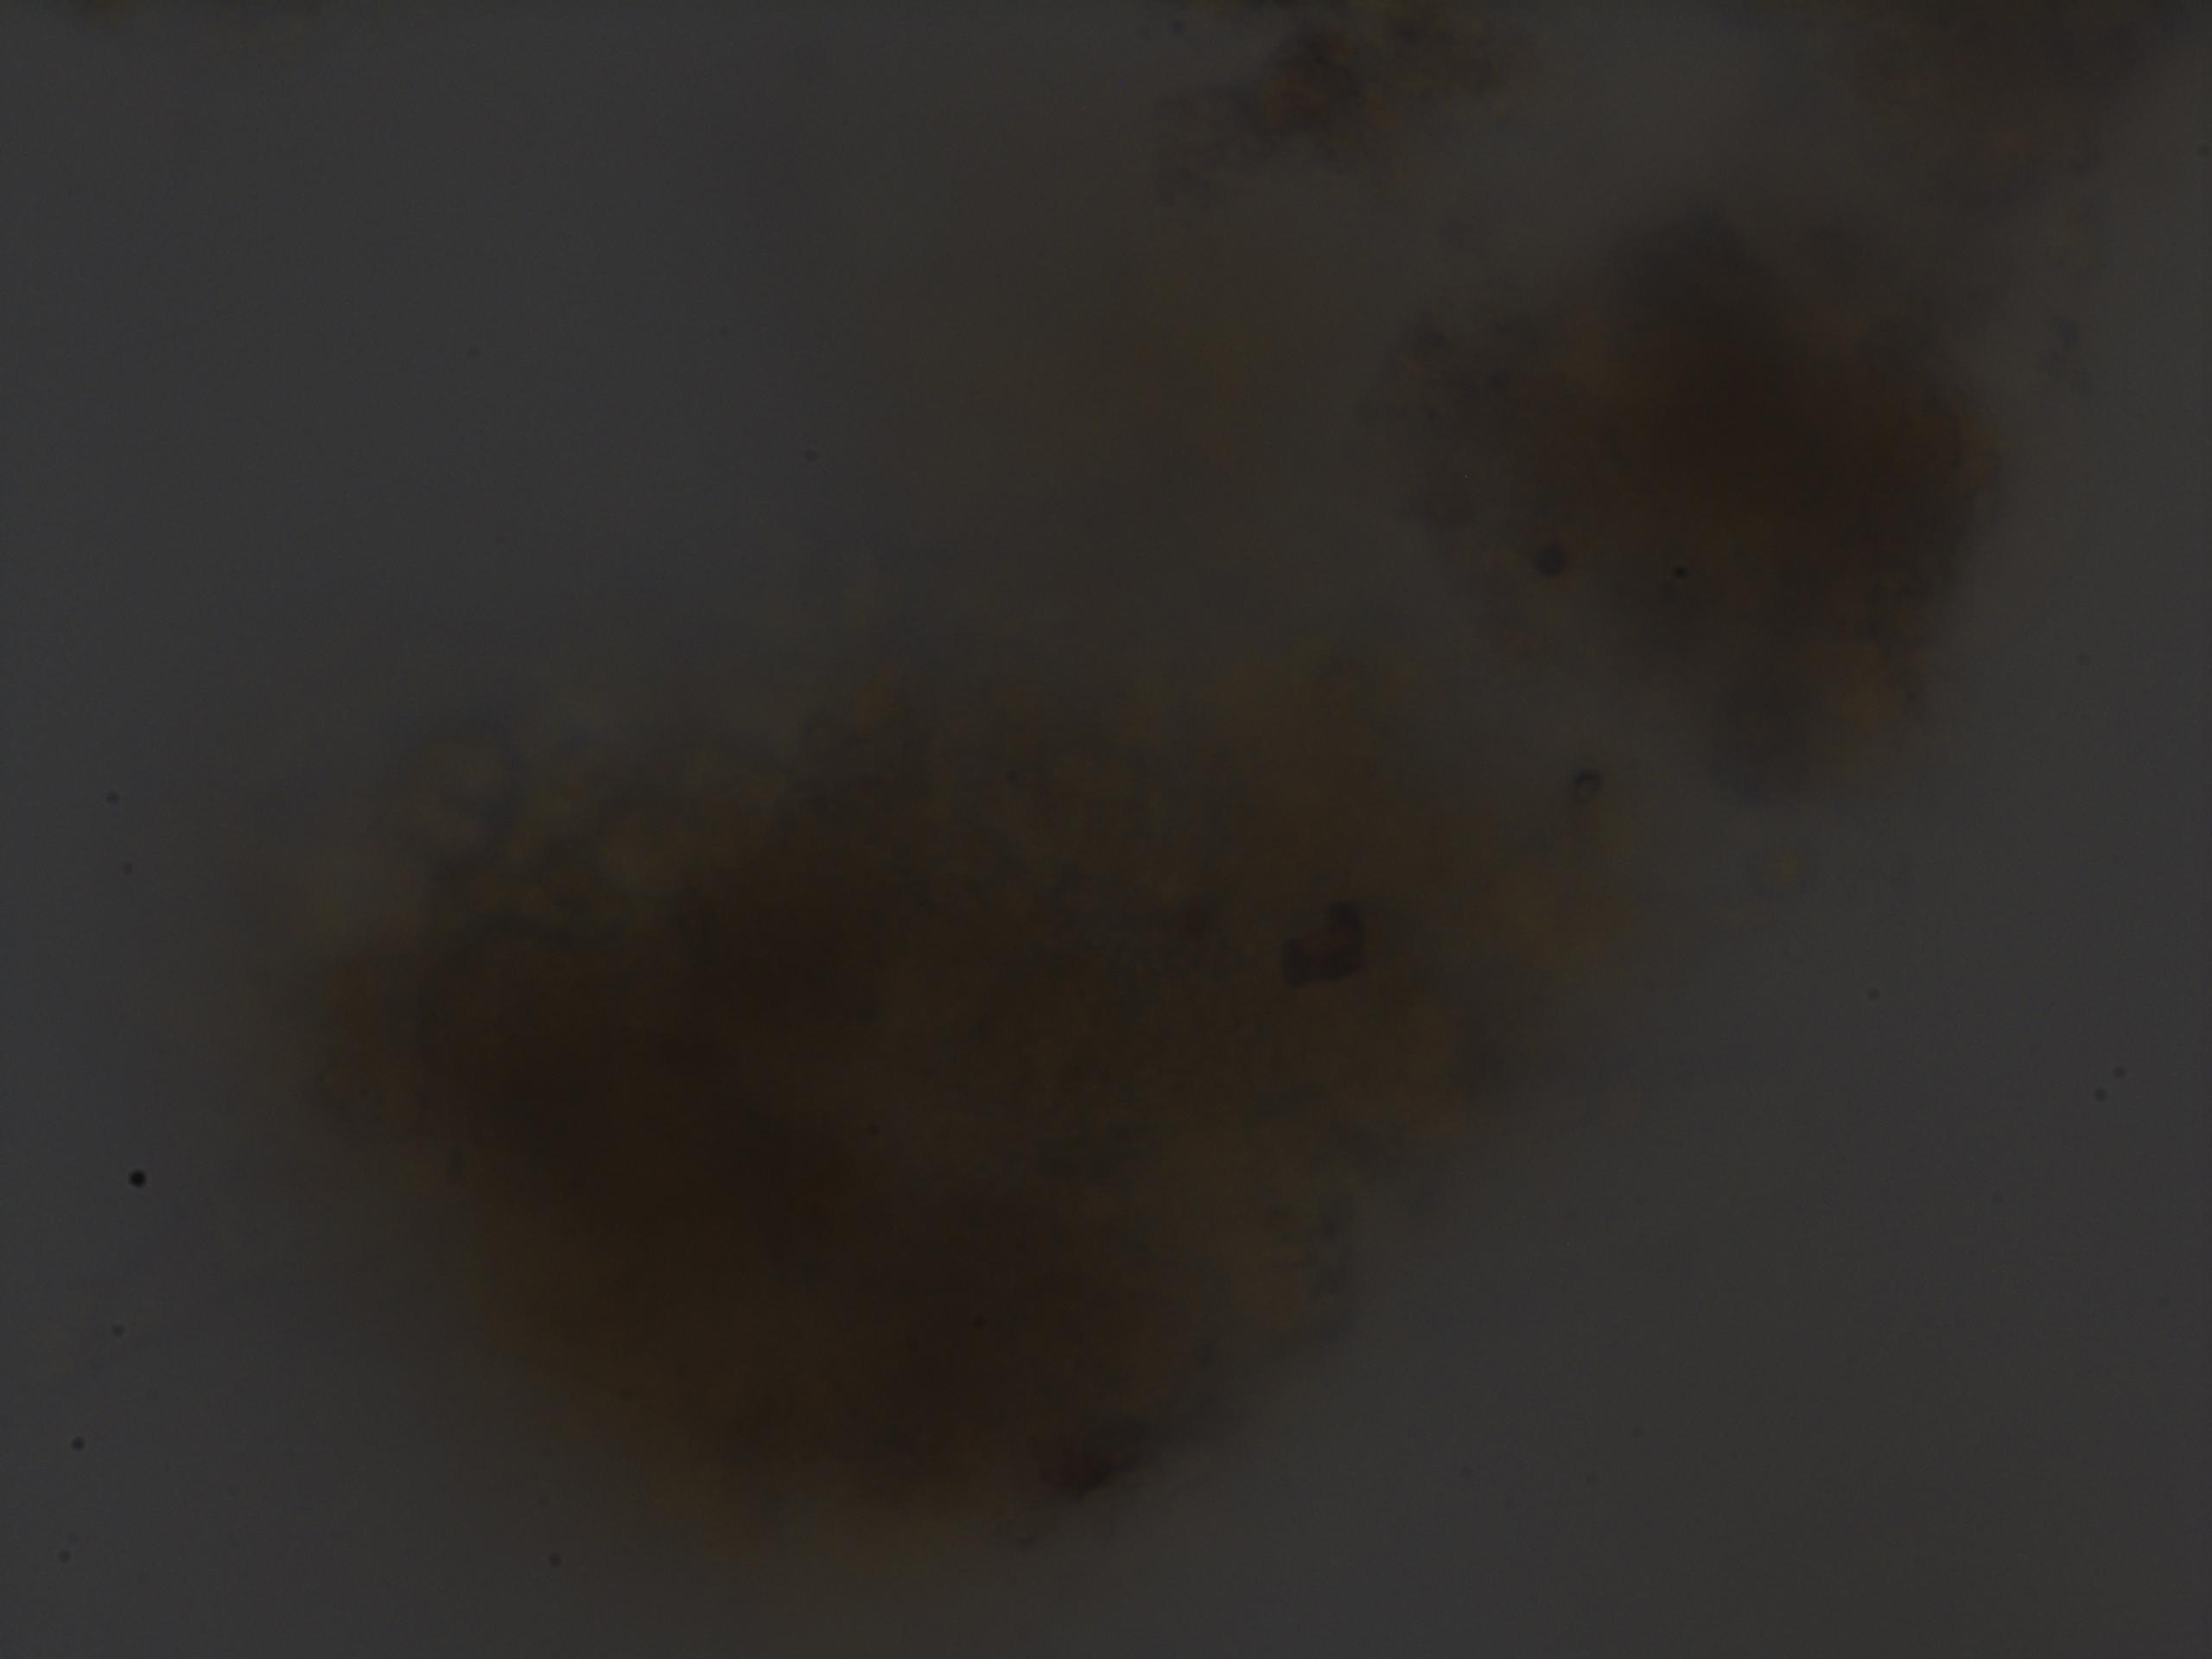spherical_floc: (293, 688, 1527, 1575), (1376, 174, 2020, 826)
